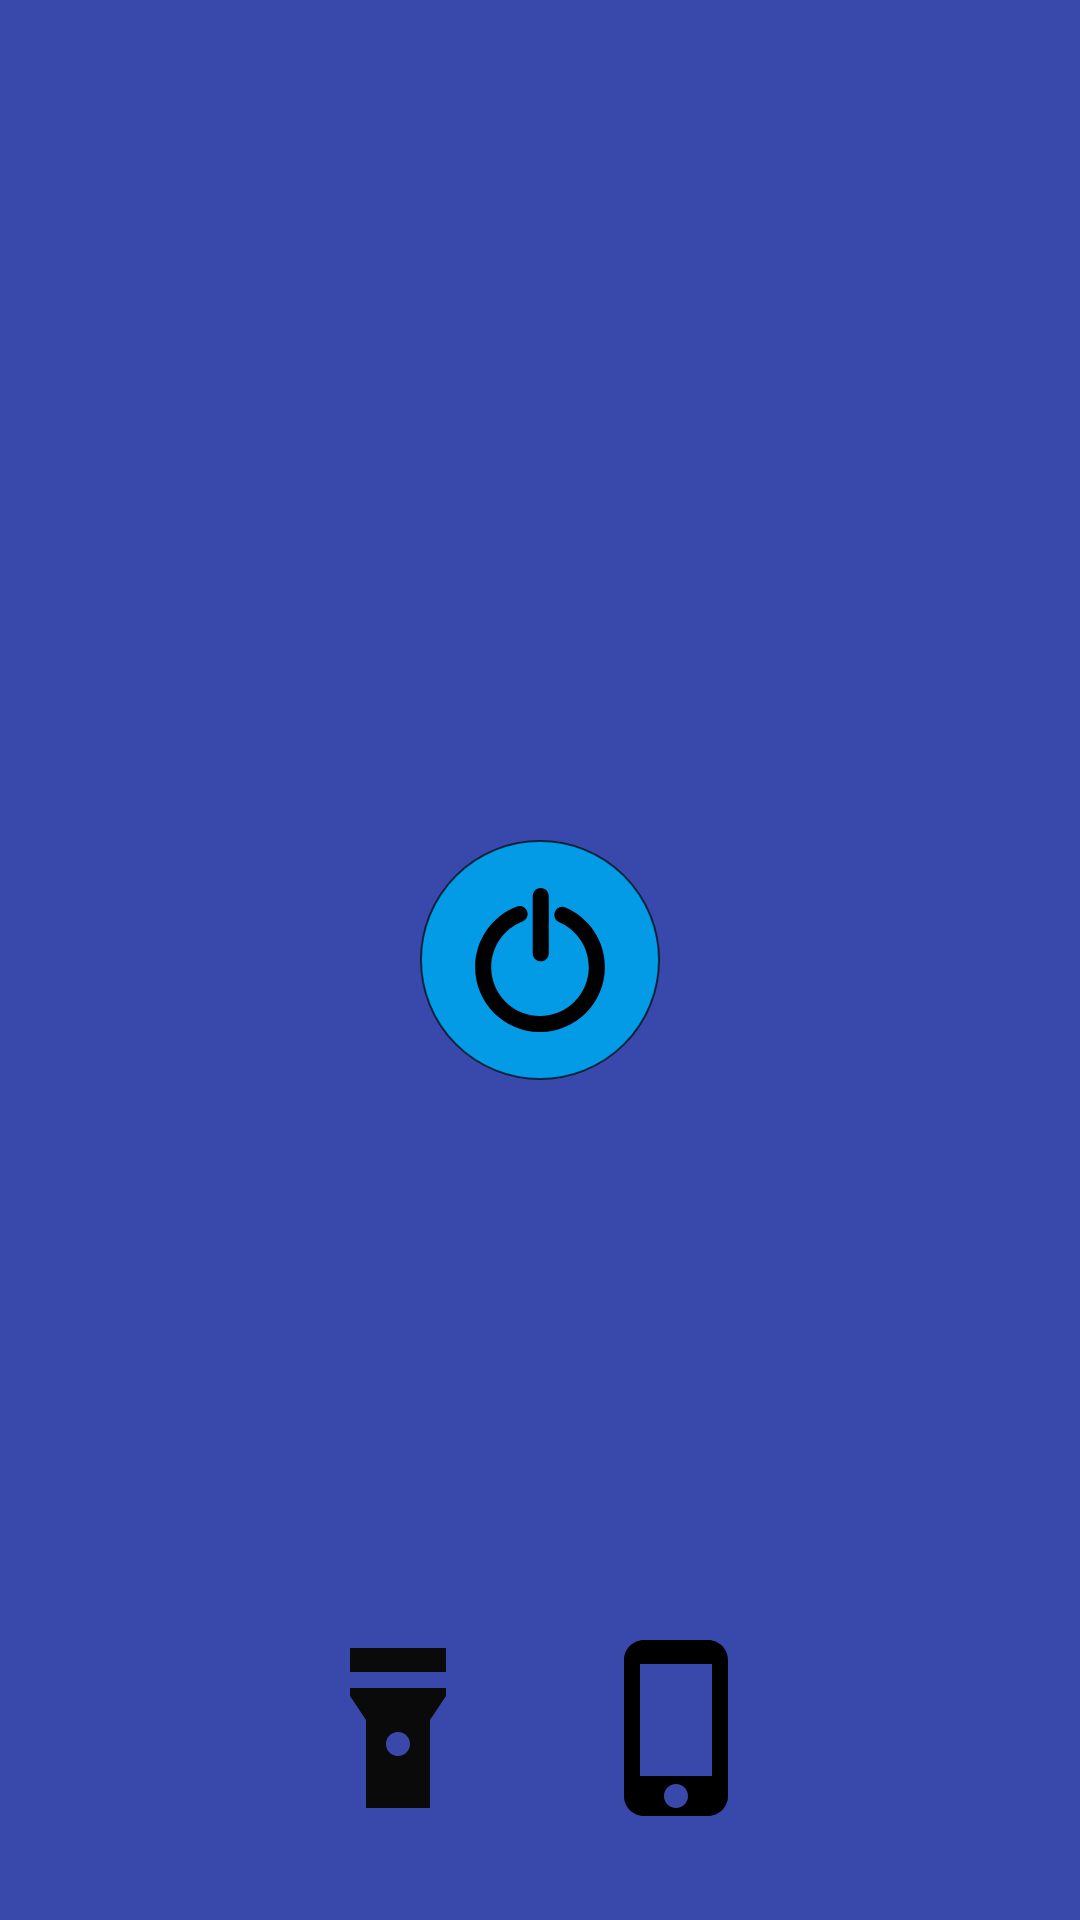

Locate icon controls on the screen. Image size 1080 × 1920, boxes as [left=x1, top=y1, right=x2, bottom=y2].
back torch off: [left=350, top=1648, right=446, bottom=1808]
power: [left=420, top=840, right=660, bottom=1080]
